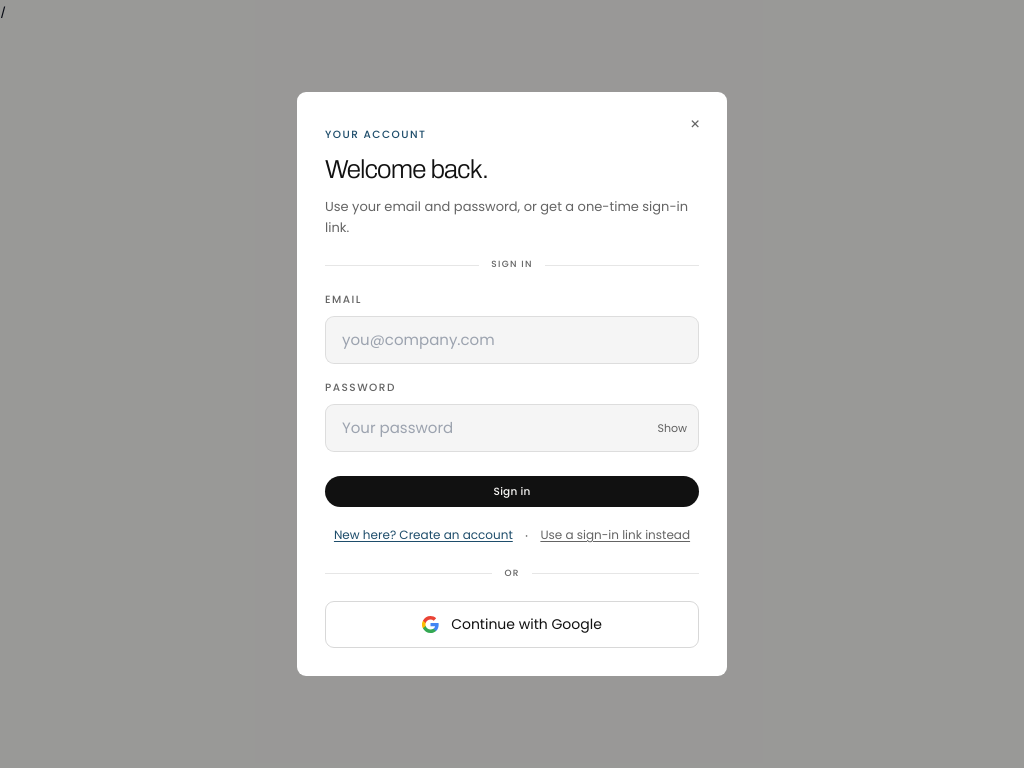
Test: AuthDialog › signs in and returns to the page that opened the flow
Type "driver@example.com" into the field labelled "Email". click: (512, 340)
box: [325,316,699,364]
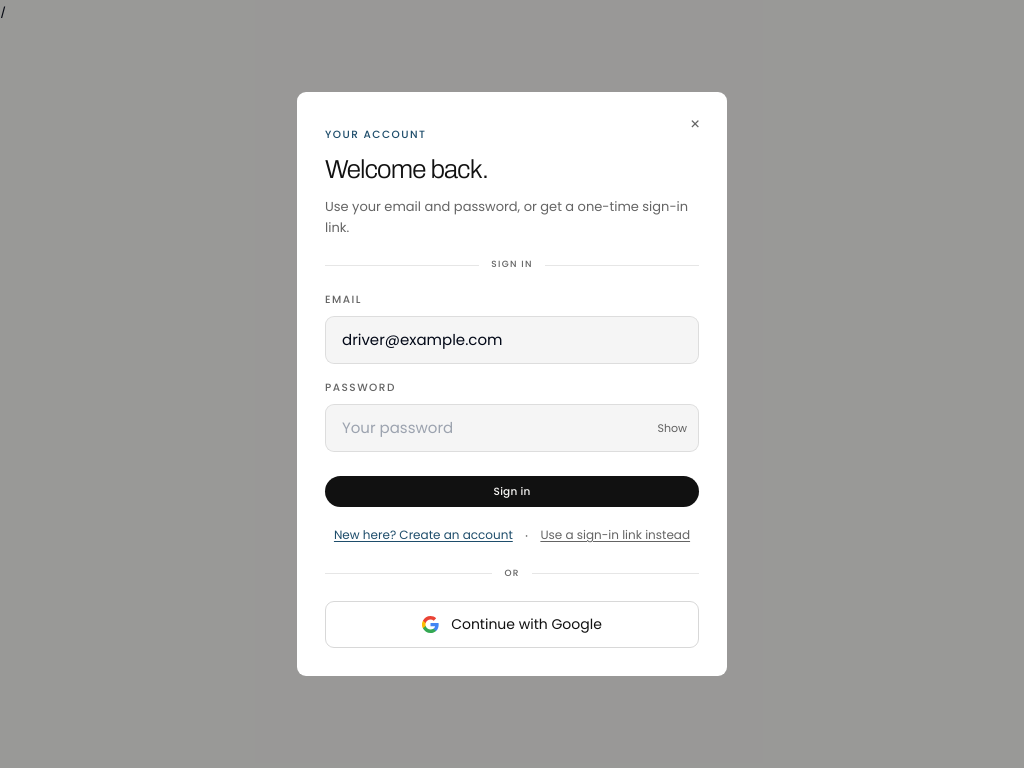
Type "a-real-password" into the password field labelled "Password". click: (512, 428)
box: [325,404,699,452]
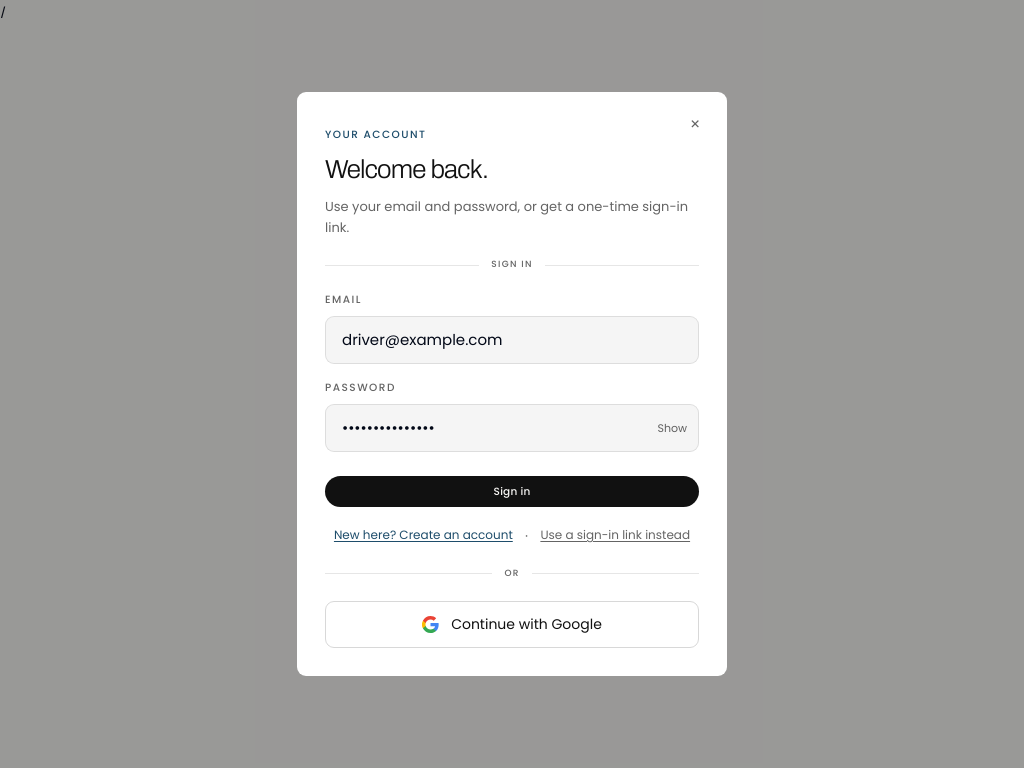
Click the button "Sign in". click: (512, 492)
box: [325,476,699,507]
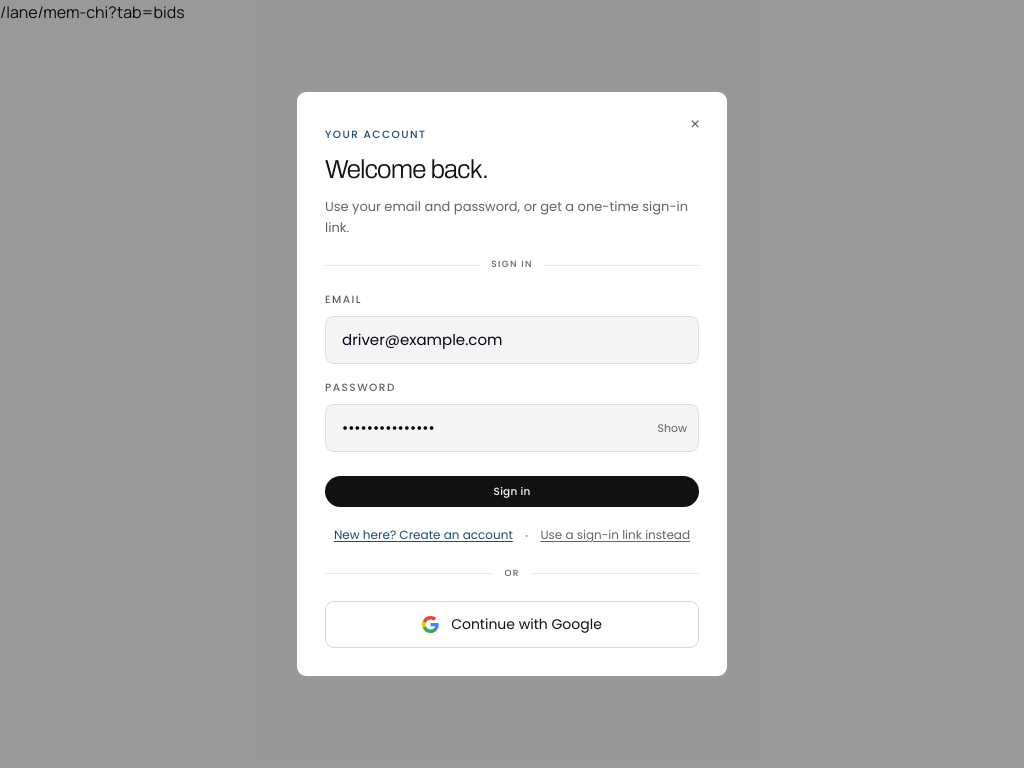
Expected: the text with test id "location" reads "/lane/mem-chi?tab=bids", [0,1,185,23]
